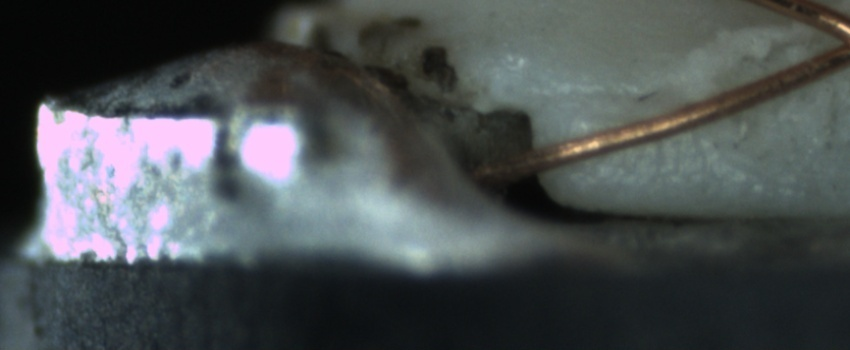CL: (801, 9, 850, 77)
DL: (547, 70, 664, 126)
